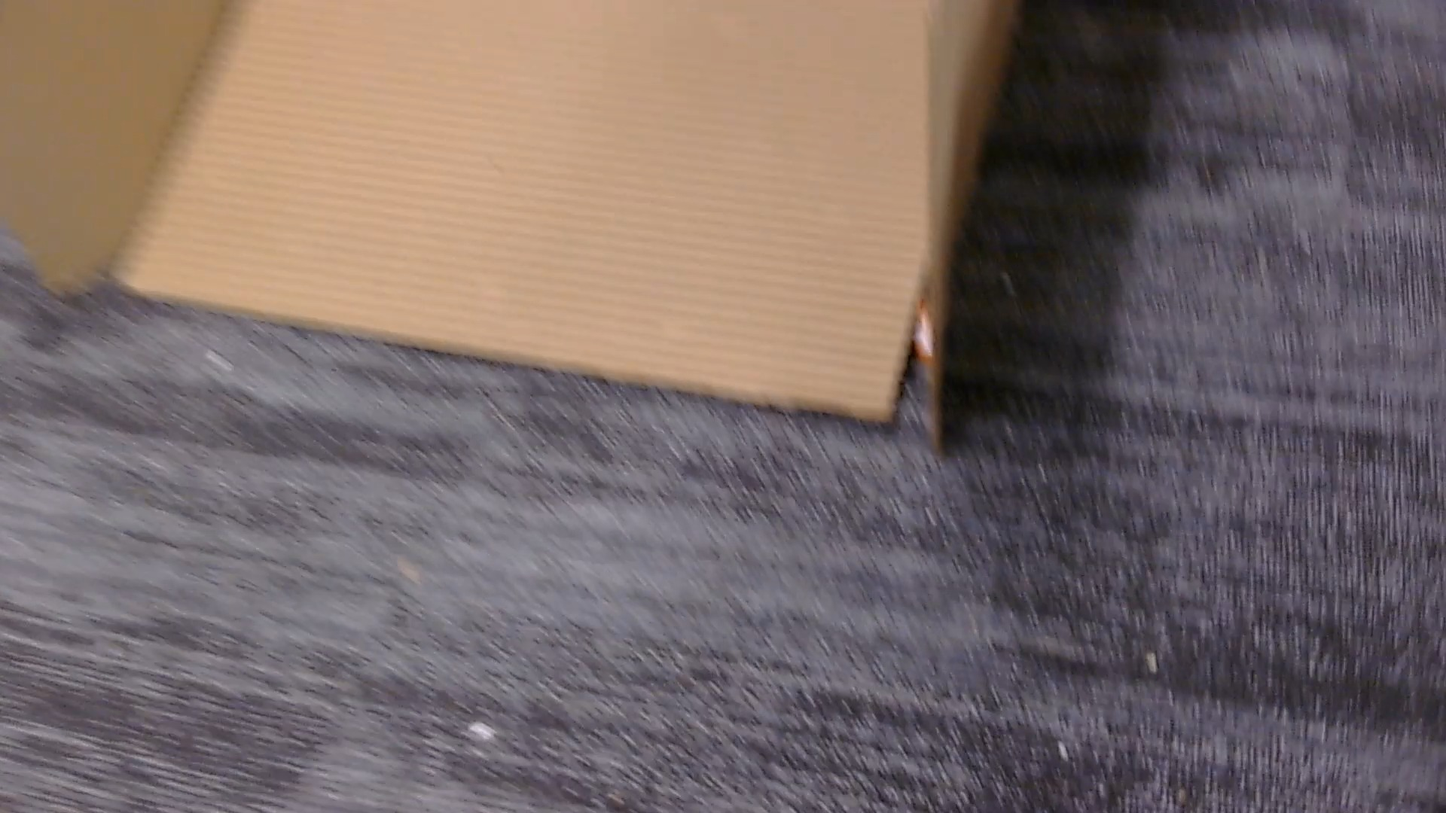Ramp: (0, 0, 1017, 420)
